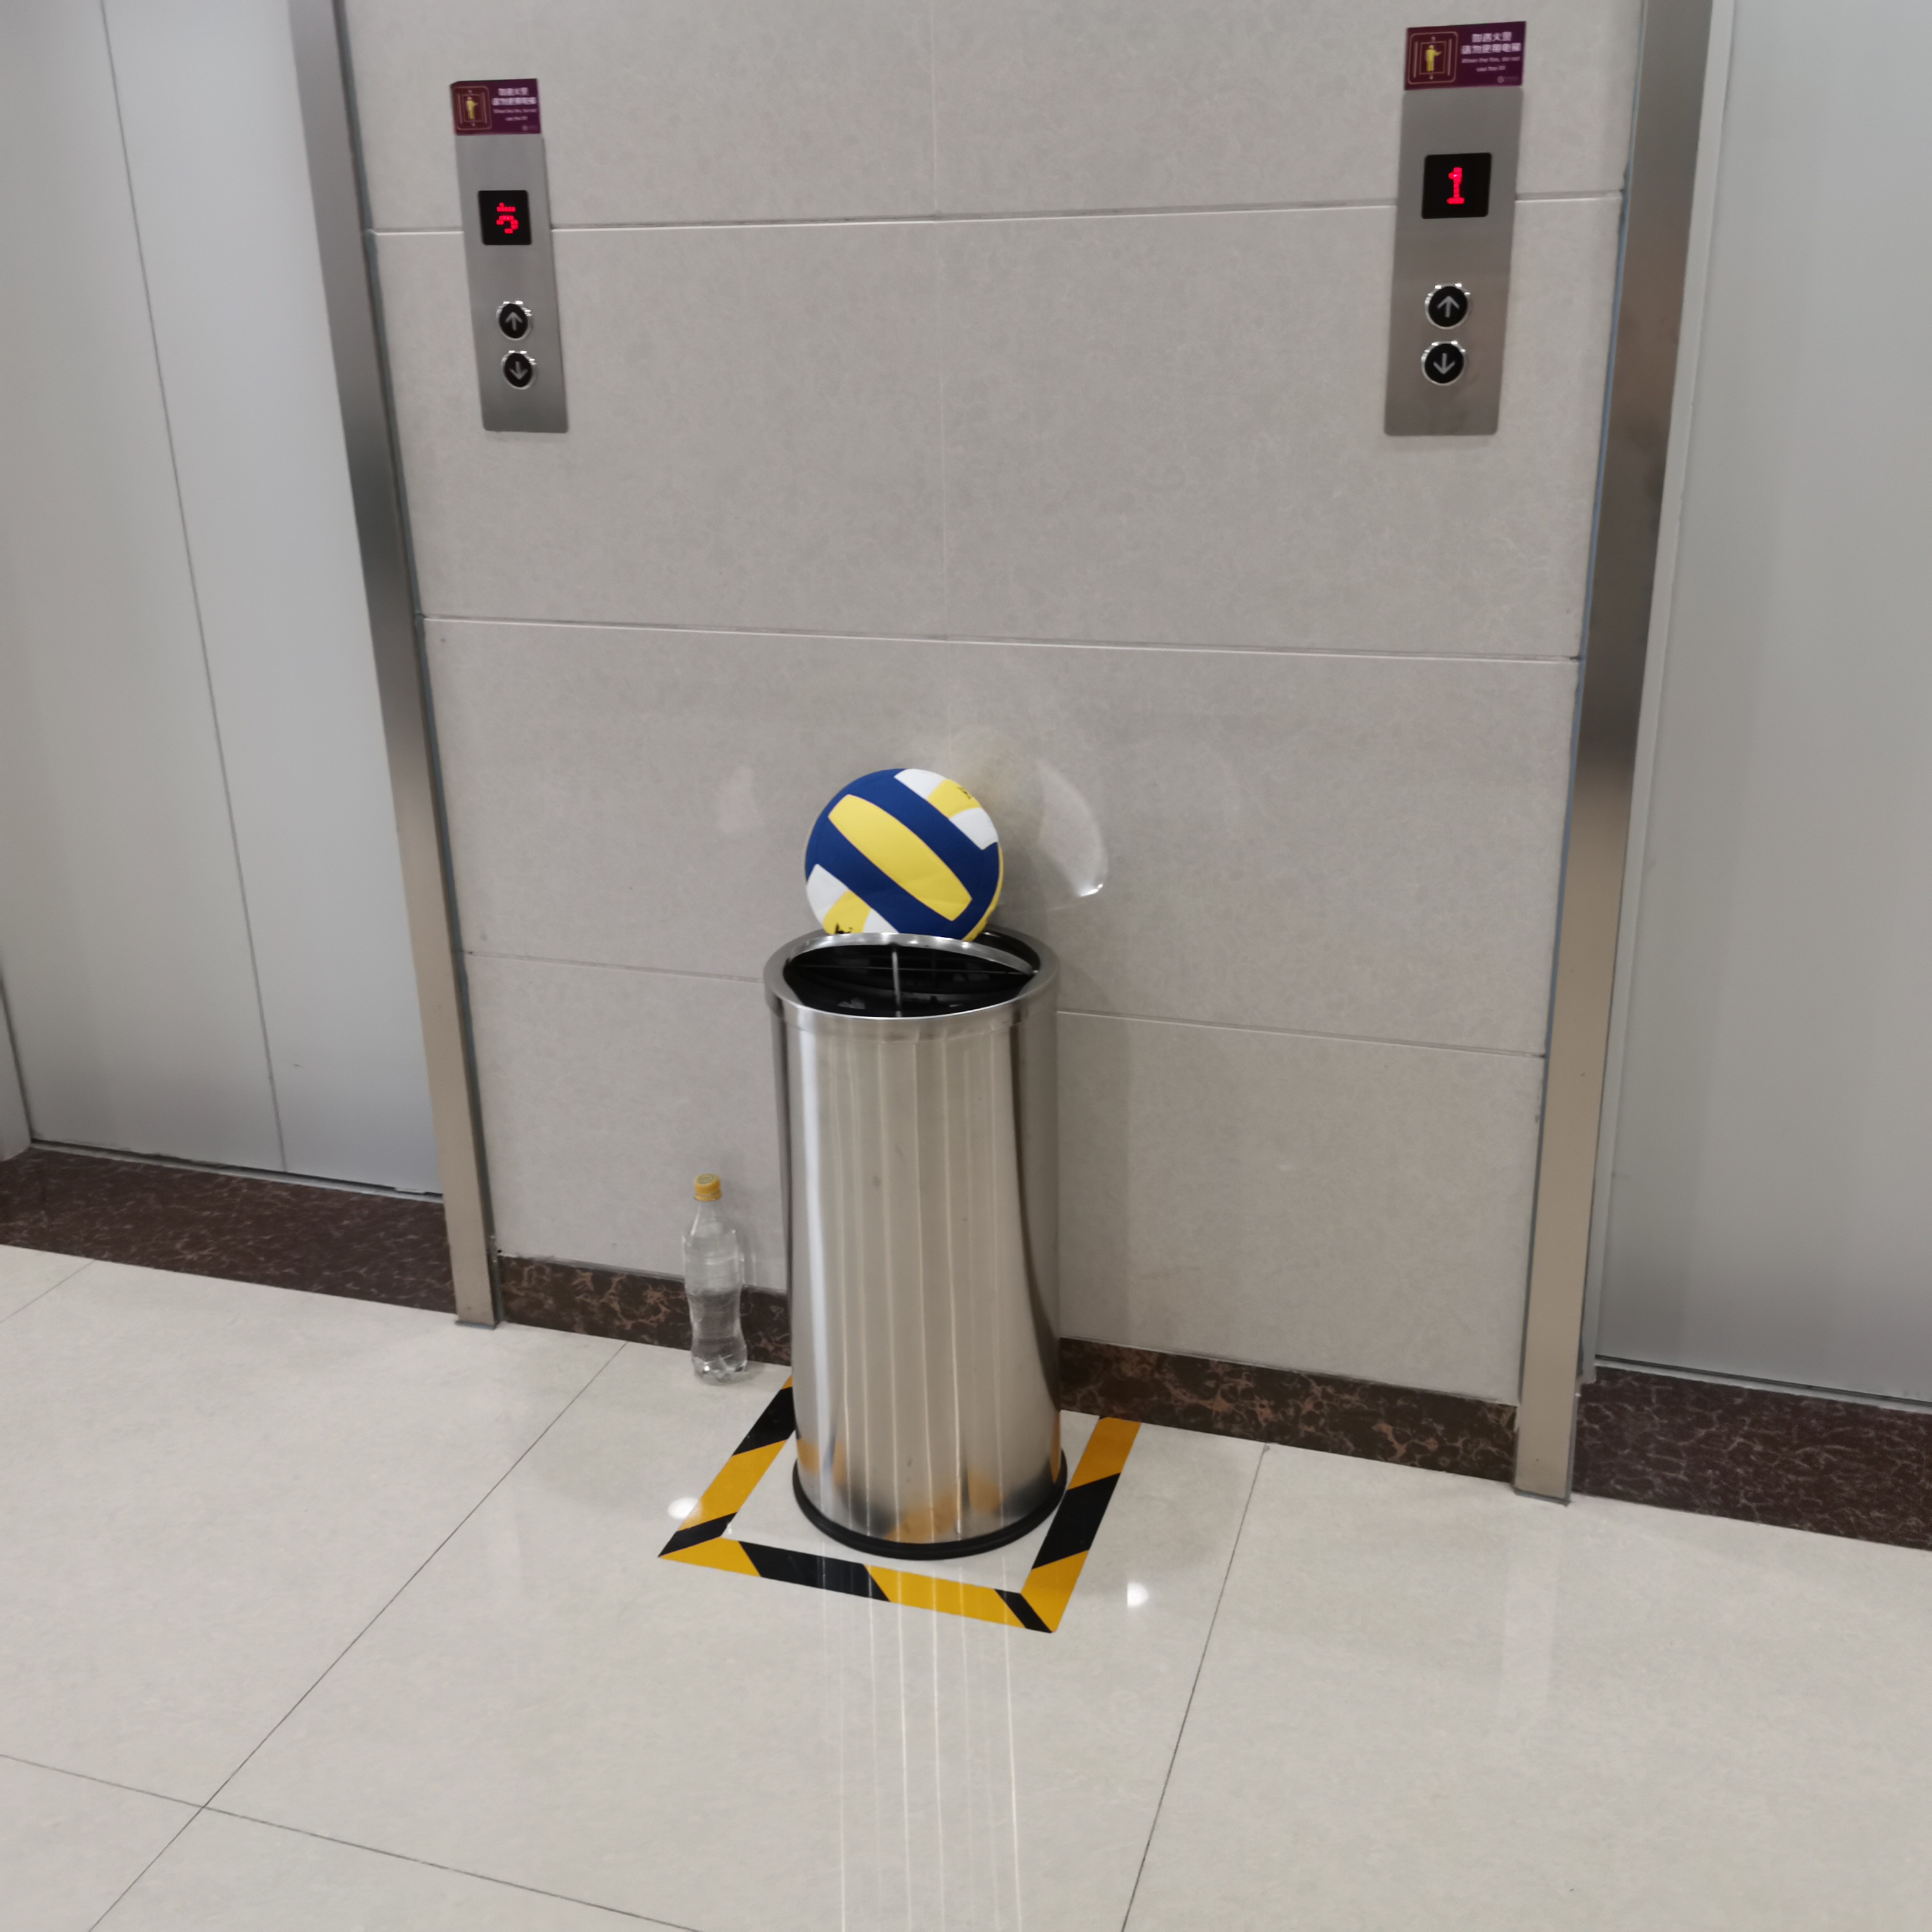volleyball: (801, 768, 1007, 938)
